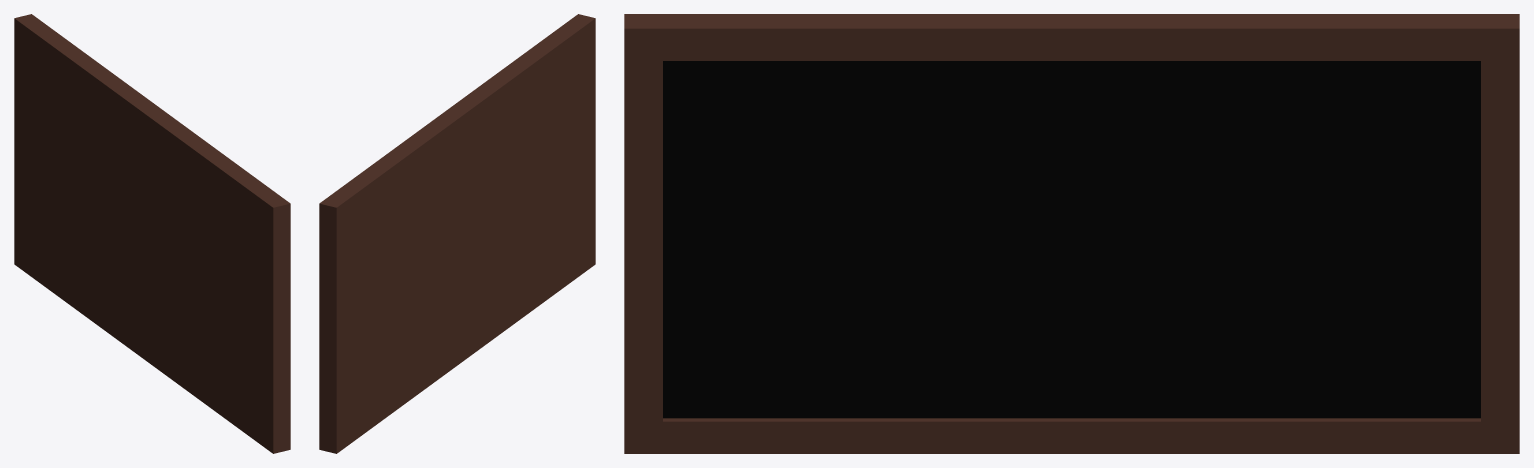
Rendered from chalkboard.fbx.
3 views of the same model, side by side, from view 1: azimuth 30°, elevation 25°; view 2: azimuth 150°, elevation 25°; view 3: azimuth 270°, elevation 25° (orthographic). The views are drawn at different scales.
Parts seen in each view (by area): view 1: Cube; view 2: Cube; view 3: Cube.001, Cube.
Part boxes in pixels (x1,y1,x2,y2): Cube: (14,14,290,453); Cube: (319,14,595,453); Cube.001: (663,61,1480,418); Cube: (624,14,1519,453).
Bounding box in the file's own units: 17.26 × 233 × 445.
